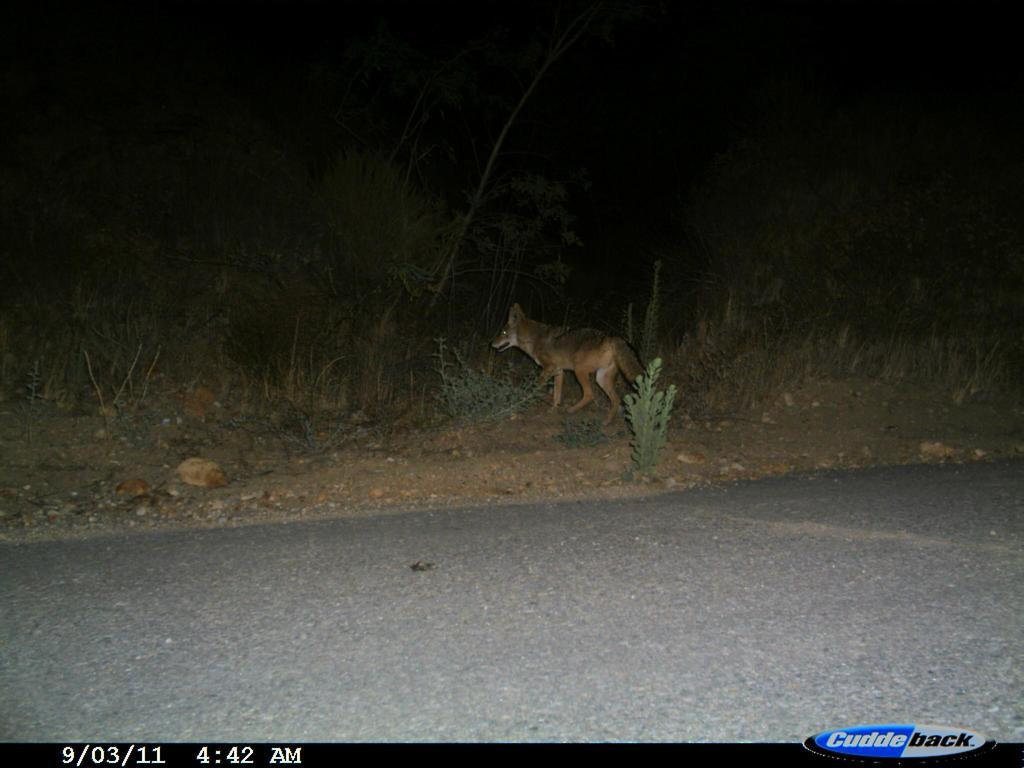coyote: (487, 300, 658, 423)
